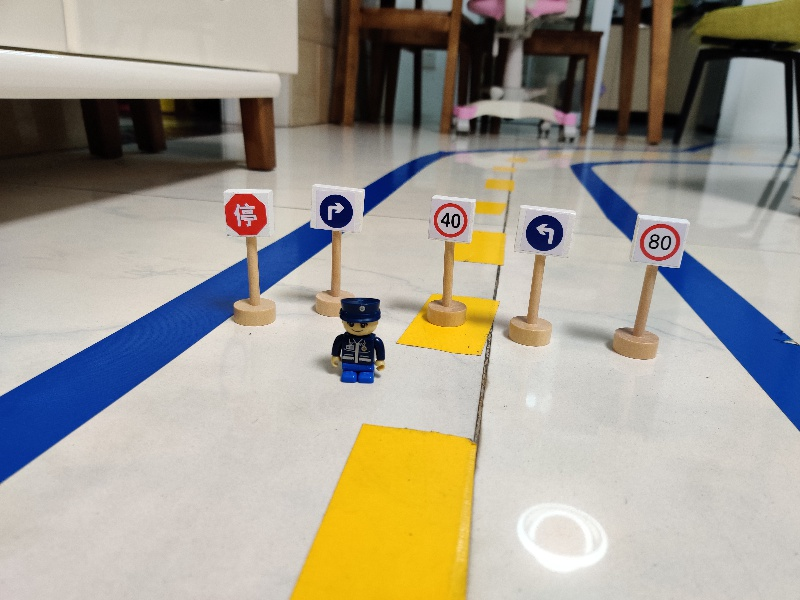limit_40: (423, 194, 477, 244)
limit_80: (626, 211, 693, 269)
person: (326, 298, 389, 387)
stop: (220, 187, 275, 238)
turn_left: (512, 205, 577, 258)
turn_right: (306, 181, 367, 235)
